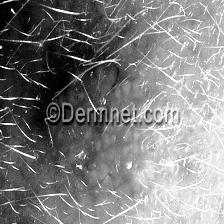Benign Marking or Mole: (50, 63, 164, 188)
